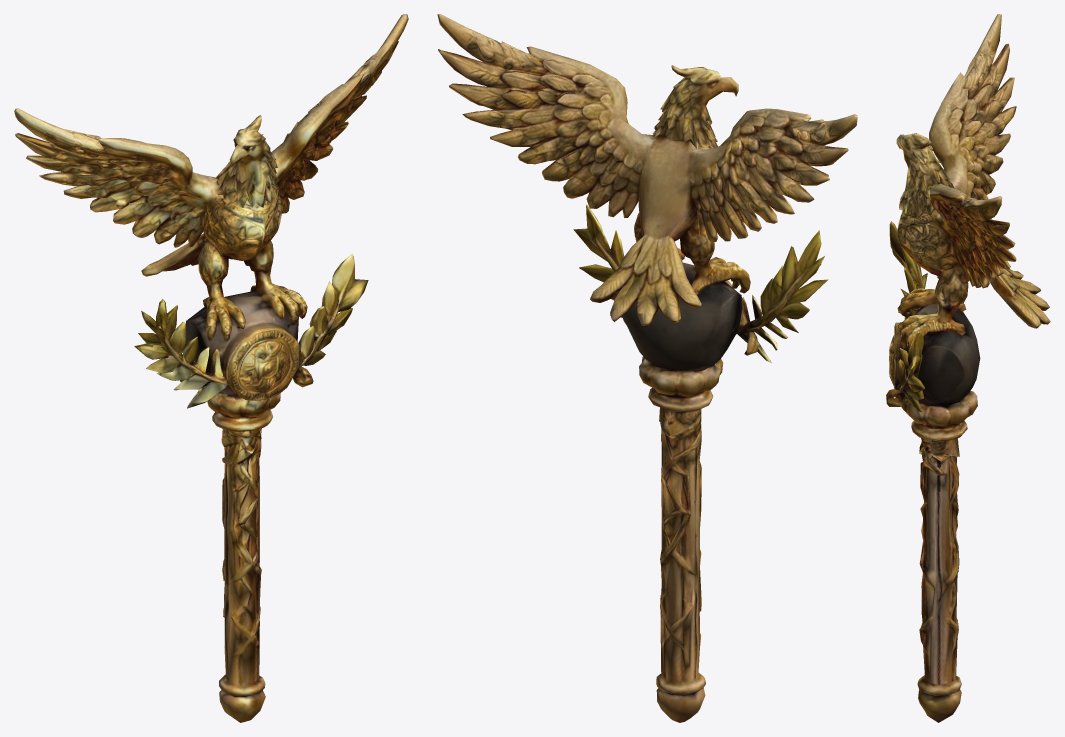
File: aquila.glb
3 views of the same model, side by side, from view 1: azimuth 30°, elevation 25°; view 2: azimuth 150°, elevation 25°; view 3: azimuth 270°, elevation 25° (orthographic). The views are drawn at different scales.
Visible parts, largest first — view 1: tripo_node_db9eb023-c1b1-42b6-90c1-833cfac9e9dd; view 2: tripo_node_db9eb023-c1b1-42b6-90c1-833cfac9e9dd; view 3: tripo_node_db9eb023-c1b1-42b6-90c1-833cfac9e9dd.
Part boxes in pixels (x1,y1,x2,y2): tripo_node_db9eb023-c1b1-42b6-90c1-833cfac9e9dd: (14,14,408,722); tripo_node_db9eb023-c1b1-42b6-90c1-833cfac9e9dd: (437,14,857,722); tripo_node_db9eb023-c1b1-42b6-90c1-833cfac9e9dd: (886,14,1050,722).
Size of the model in its own units: 0.6318 by 0.9796 by 0.2377.
Materials: 1 (1 with a texture image).
